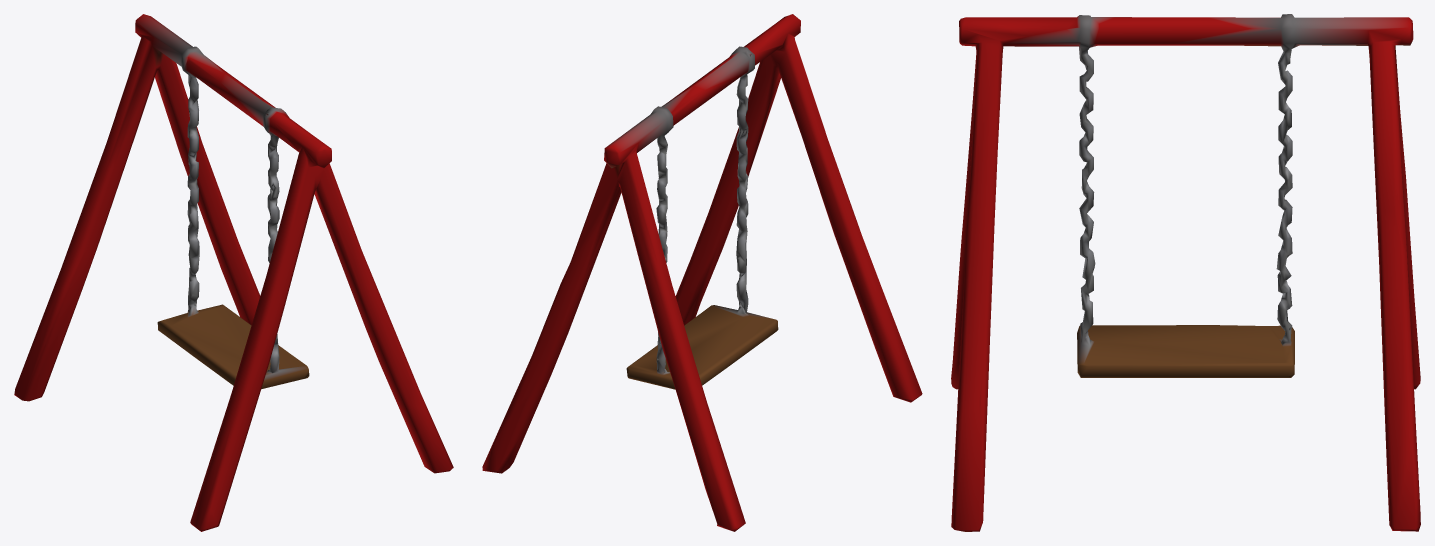
The model's file is gen3d-swing-lod1.glb.
3 renders of one model, left to right at view 1: azimuth 30°, elevation 25°; view 2: azimuth 150°, elevation 25°; view 3: azimuth 270°, elevation 25°, orthographic. The views are drawn at different scales.
Visible parts, largest first — view 1: part_0; view 2: part_0; view 3: part_0.
Part boxes in pixels (<box>): part_0: <box>14,14,453,531</box>; part_0: <box>482,14,922,531</box>; part_0: <box>951,14,1420,531</box>.
Size of the model in its own units: 0.7519 by 0.9983 by 0.9669.
